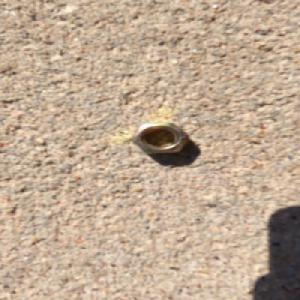Nut: (130, 120, 190, 155)
